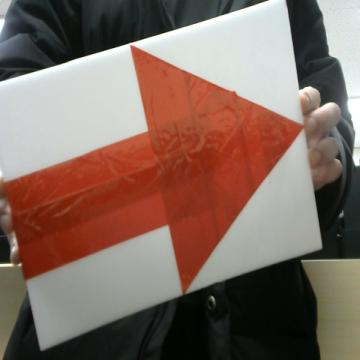red_right: (5, 46, 303, 292)
